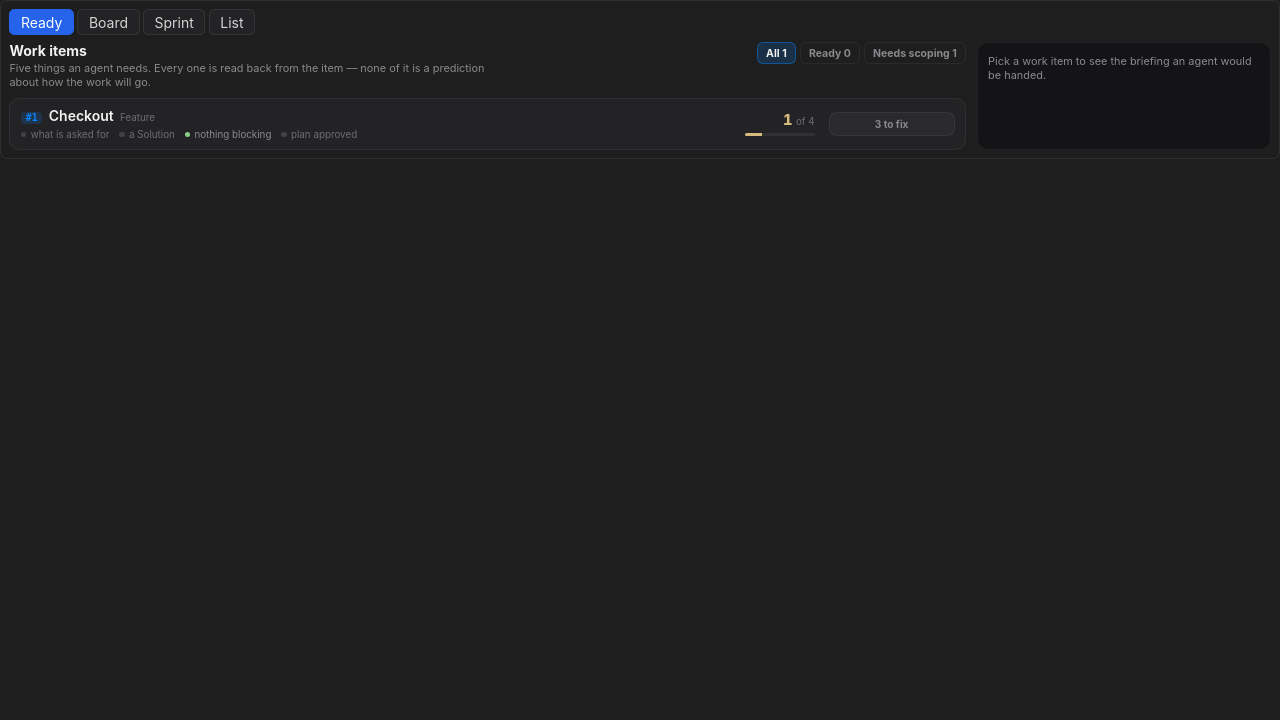
Test case: WorkItemViews › says the AI has not planned it yet rather than showing an empty block
What coordinates should you click on to do the following:
click the button with aria-label "Show the briefing for Checkout"
I would click on:
 (81, 116)
Its box is [21,107,815,140].
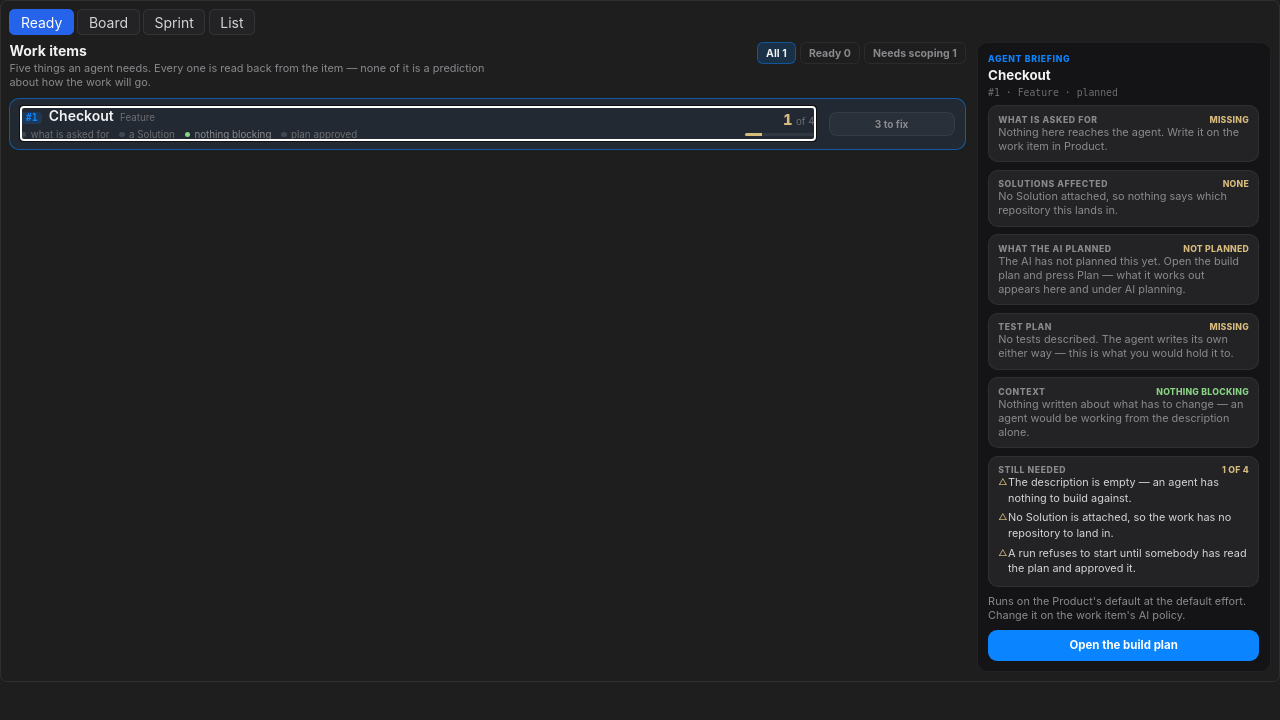
Expected: the element "Agent briefing" shows "has not planned this yet", [998,254,1239,296]
